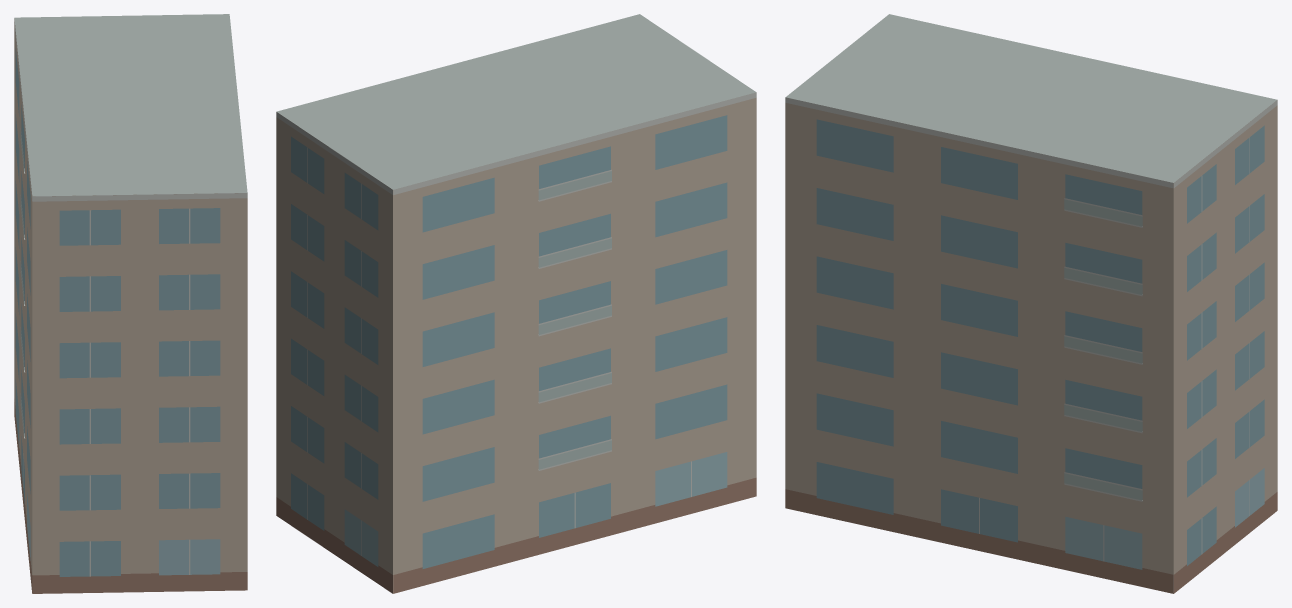
The model's file is survey-upis-32973368.glb.
3 renders of one model, left to right at view 1: azimuth 30°, elevation 25°; view 2: azimuth 150°, elevation 25°; view 3: azimuth 270°, elevation 25°, orthographic. The views are drawn at different scales.
Visible parts, largest first — view 1: survey-upis-32973368.tmp; view 2: survey-upis-32973368.tmp; view 3: survey-upis-32973368.tmp.
Part boxes in pixels (x1,y1,x2,y2): survey-upis-32973368.tmp: (14,14,247,593); survey-upis-32973368.tmp: (276,14,756,593); survey-upis-32973368.tmp: (785,14,1277,593).
Bounding box in the file's own units: 16.23 × 18.4 × 19.98.
